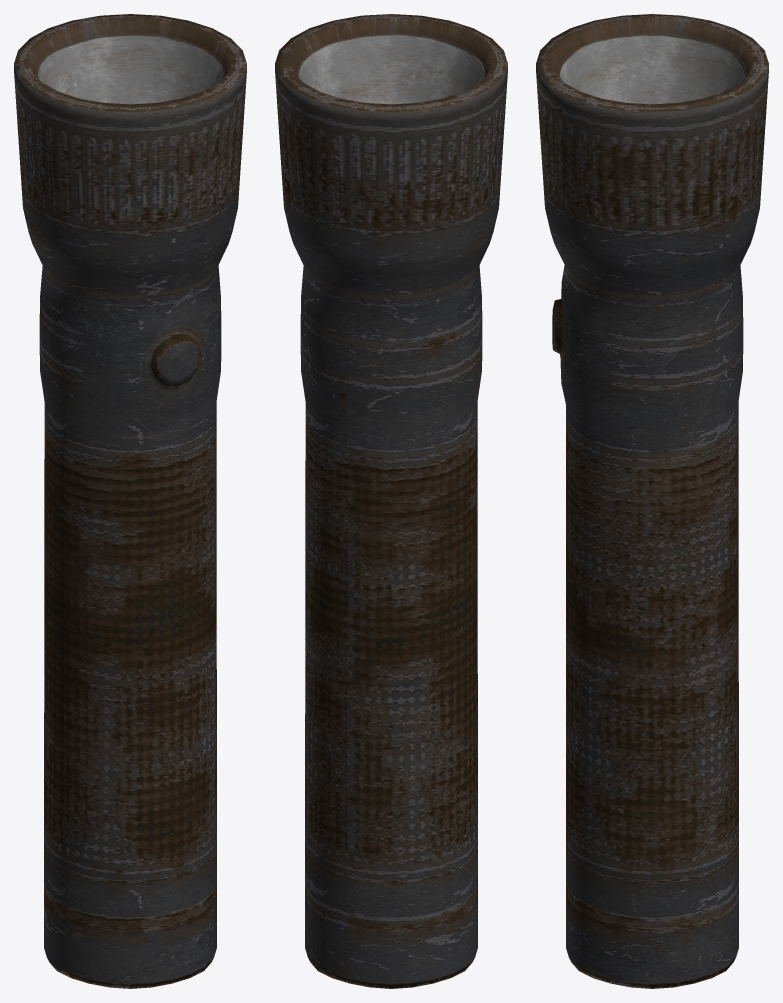
File: old_flashlight.glb
3 views of the same model, side by side, from view 1: azimuth 30°, elevation 25°; view 2: azimuth 150°, elevation 25°; view 3: azimuth 270°, elevation 25° (orthographic).
Visible parts, largest first — view 1: midComb_light_bottom; view 2: midComb_light_bottom; view 3: midComb_light_bottom.
Part boxes in pixels (bbox=[...]): midComb_light_bottom: bbox=[14, 14, 246, 988]; midComb_light_bottom: bbox=[275, 14, 507, 988]; midComb_light_bottom: bbox=[536, 14, 768, 988].
Size of the model in its own units: 0.0449 by 0.1897 by 0.0449.
Materials: 3 (3 with a texture image).
